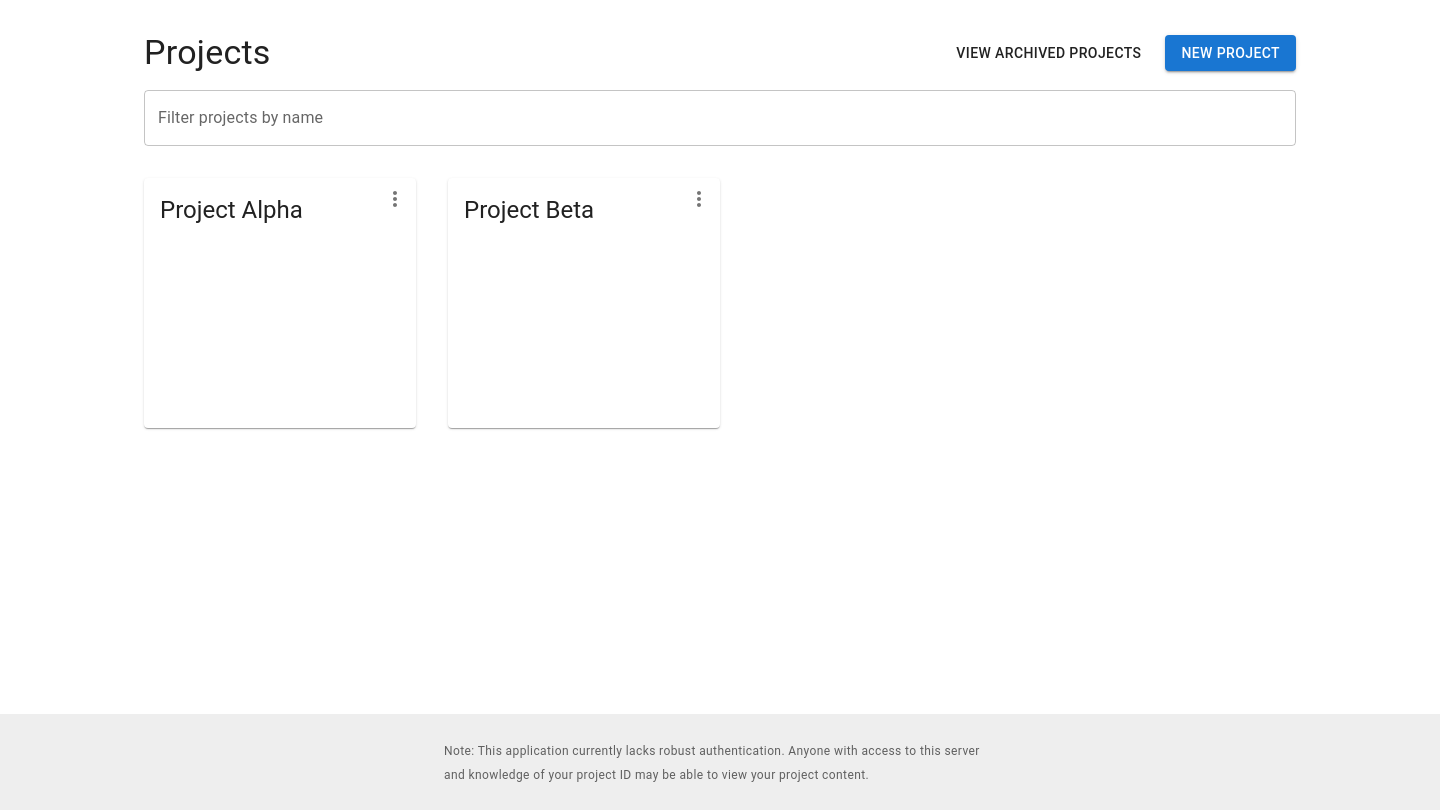
Test: ProjectGrid › should filter projects based on user input
Expected: the text "Project Alpha" is shown, [160,196,303,224]
Type "Alpha" into the field labelled "Filter projects by name". click: coordinates (720, 118)
box: [144,90,1296,146]
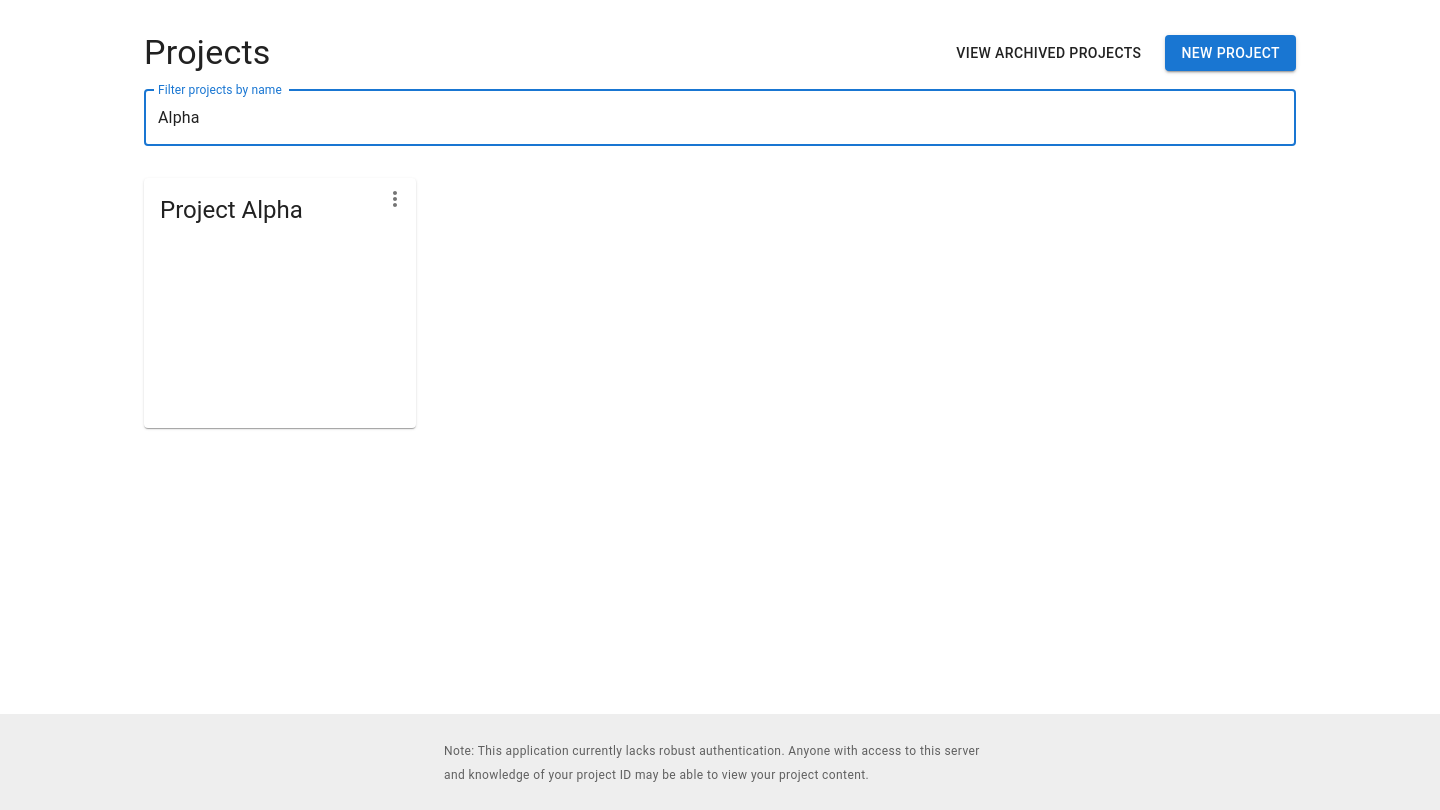
Expected: the text "Project Alpha" is shown, [160,196,303,224]
Expected: the link "Project Beta" is gone
